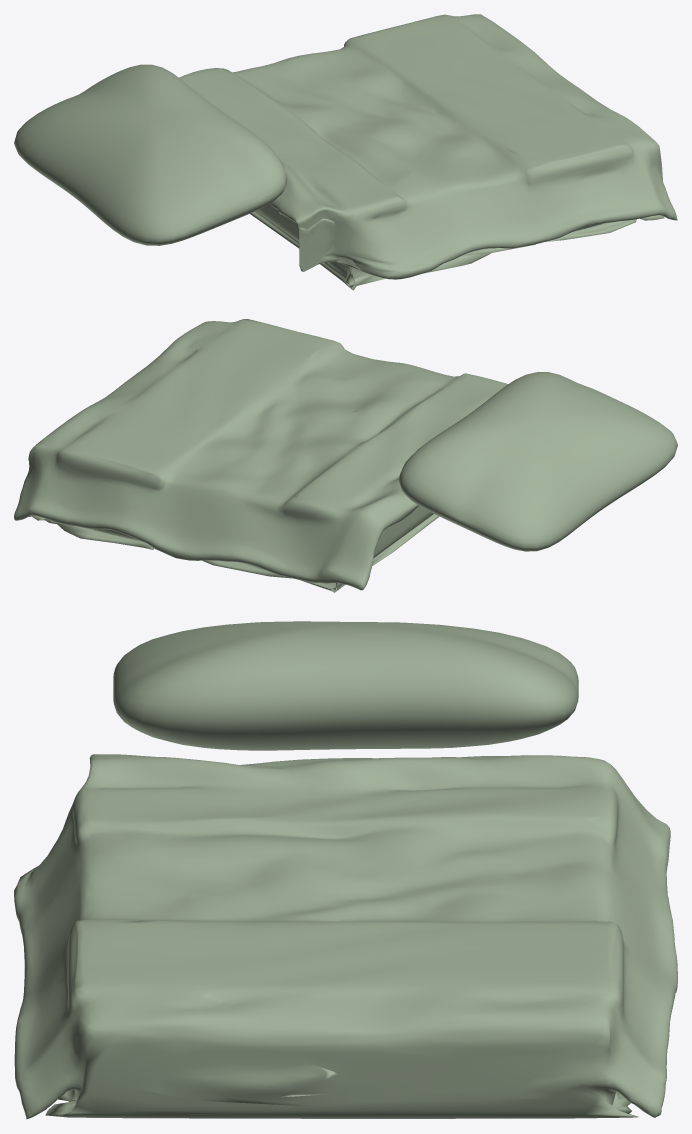
File: angslilja-60632458.glb
3 renders of one model, top to bottom at view 1: azimuth 30°, elevation 25°; view 2: azimuth 150°, elevation 25°; view 3: azimuth 270°, elevation 25°, orthographic. The views are drawn at different scales.
Visible parts, largest first — view 1: angslilja-60632458--filled-duvet, angslilja-60632458--pillow-1; view 2: angslilja-60632458--filled-duvet, angslilja-60632458--pillow-1; view 3: angslilja-60632458--filled-duvet, angslilja-60632458--pillow-1.
Part boxes in pixels (x1=…): angslilja-60632458--filled-duvet: x1=179, y1=14, x2=677, y2=290; angslilja-60632458--pillow-1: x1=14, y1=64, x2=287, y2=245; angslilja-60632458--filled-duvet: x1=14, y1=319, x2=507, y2=592; angslilja-60632458--pillow-1: x1=398, y1=372, x2=677, y2=551; angslilja-60632458--filled-duvet: x1=14, y1=754, x2=677, y2=1119; angslilja-60632458--pillow-1: x1=113, y1=621, x2=578, y2=750.
Bounding box in the file's own units: 1.98 × 0.5133 × 1.51.
